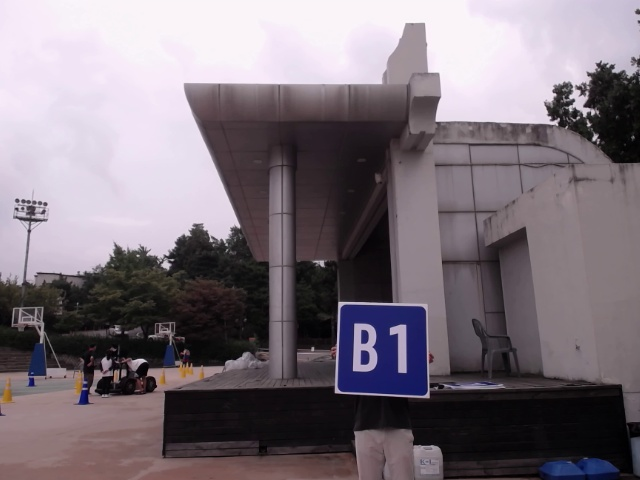delivery_b1: (336, 302, 430, 397)
